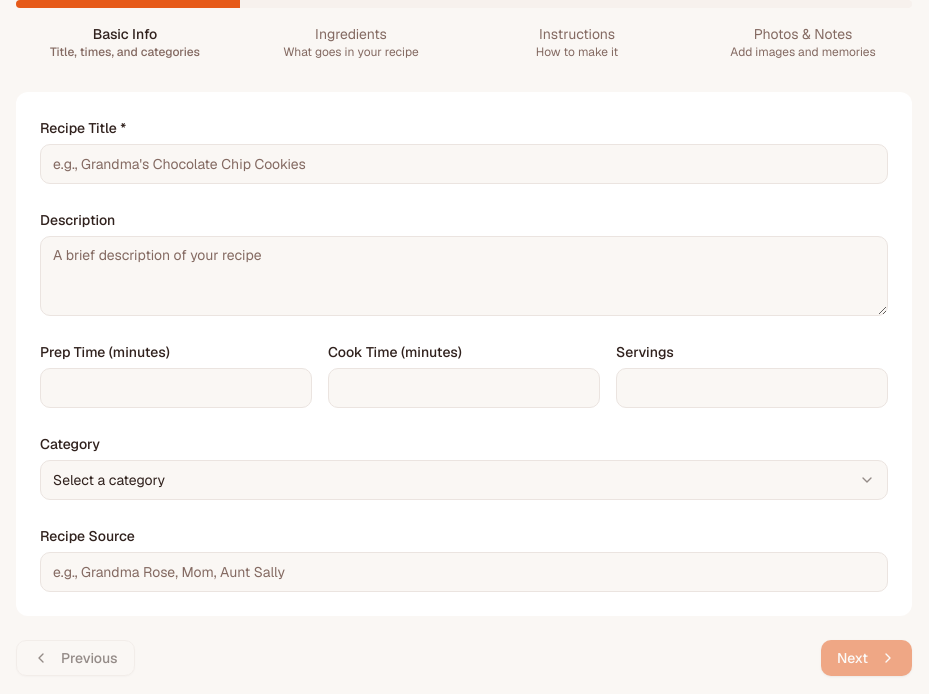
RecipeFormValidation › Basic Info Step Validation › should enable next button when title is provided
Type "Test Recipe" into the field labelled "Recipe Title *" at point(464, 164), box [40, 144, 888, 184]
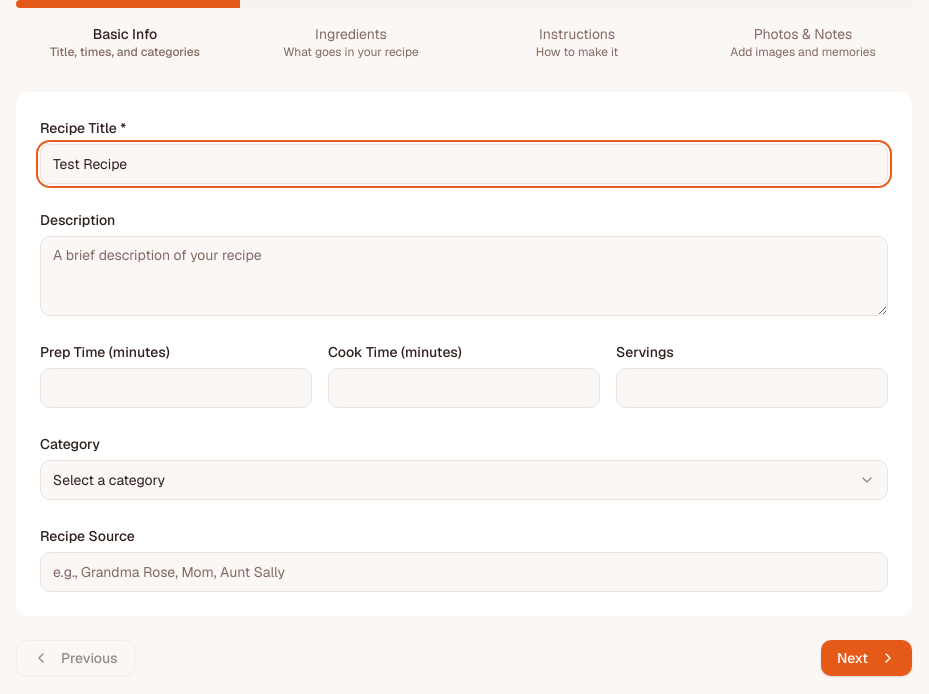
Now the button "Next" is enabled, box [821, 640, 912, 676]
